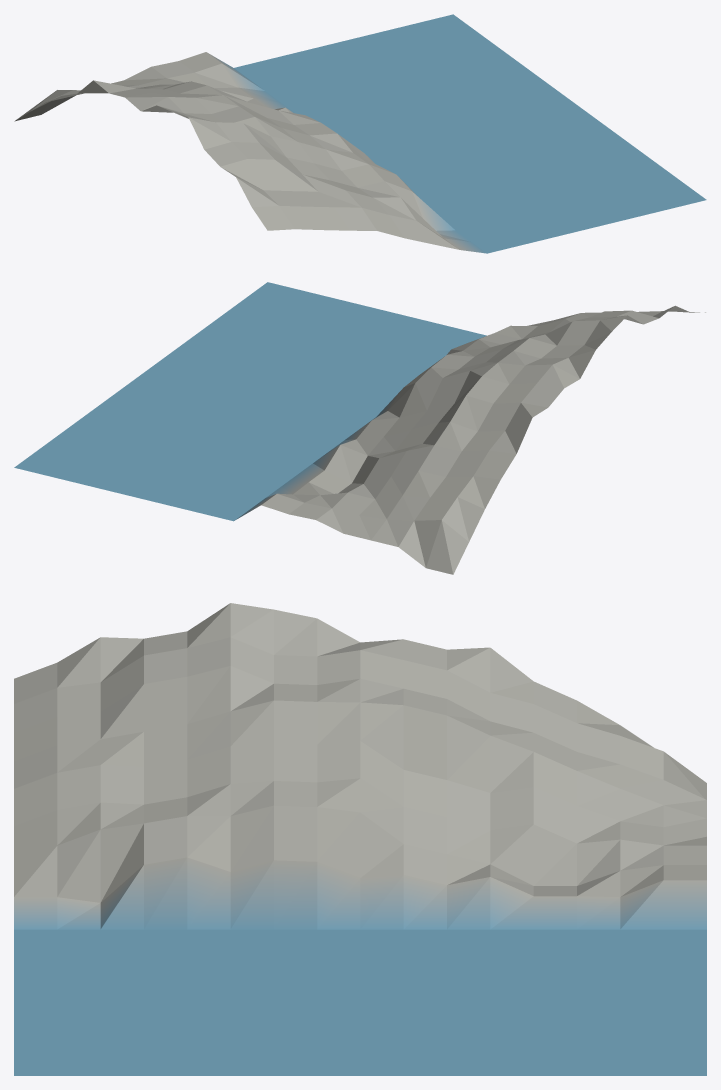
The picture shows the model from 3 angles, top to bottom: view 1: azimuth 30°, elevation 25°; view 2: azimuth 150°, elevation 25°; view 3: azimuth 270°, elevation 25°; orthographic projection. The views are drawn at different scales.
Bounding box in the file's own units: 32 × 9.18 × 32.
